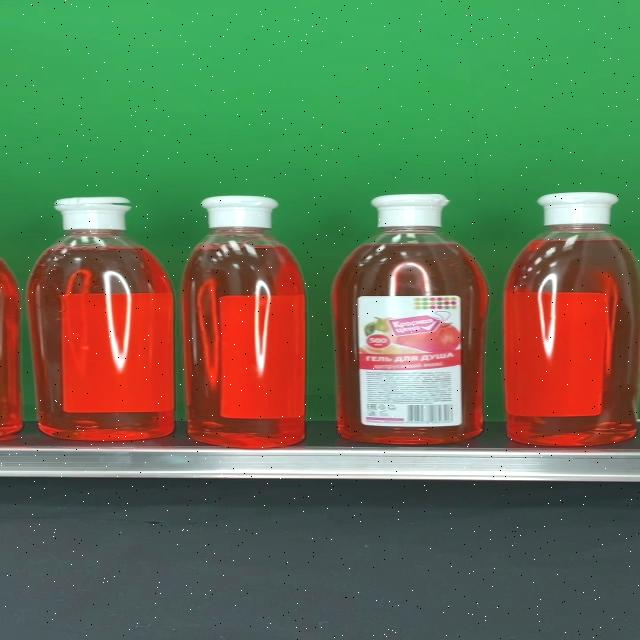Bottle: (333, 194, 488, 444), (27, 196, 174, 440), (504, 192, 636, 446), (184, 195, 305, 449)
Cap: (536, 192, 619, 226), (369, 195, 451, 228), (56, 197, 132, 231), (200, 196, 278, 229)
